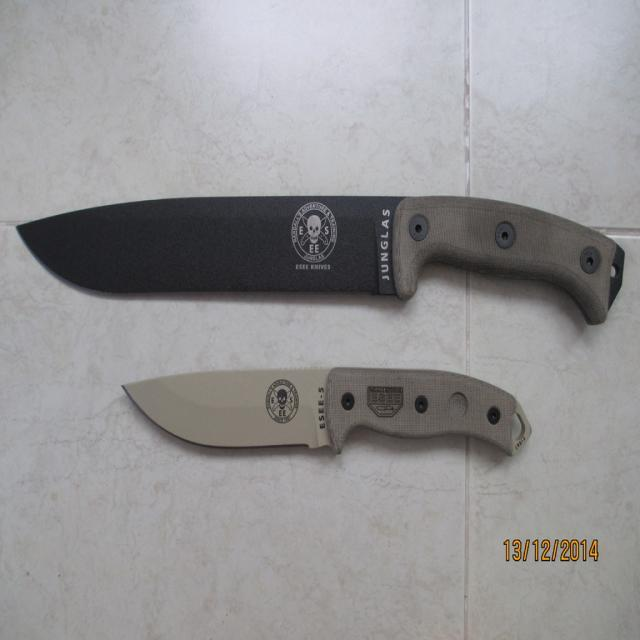Knife: (18, 196, 624, 323), (125, 368, 530, 453)
